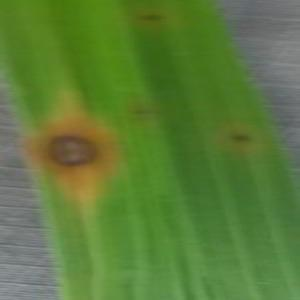0 BrownSpot: (22, 114, 124, 186), (130, 9, 168, 26), (224, 128, 255, 147), (126, 102, 160, 119)
